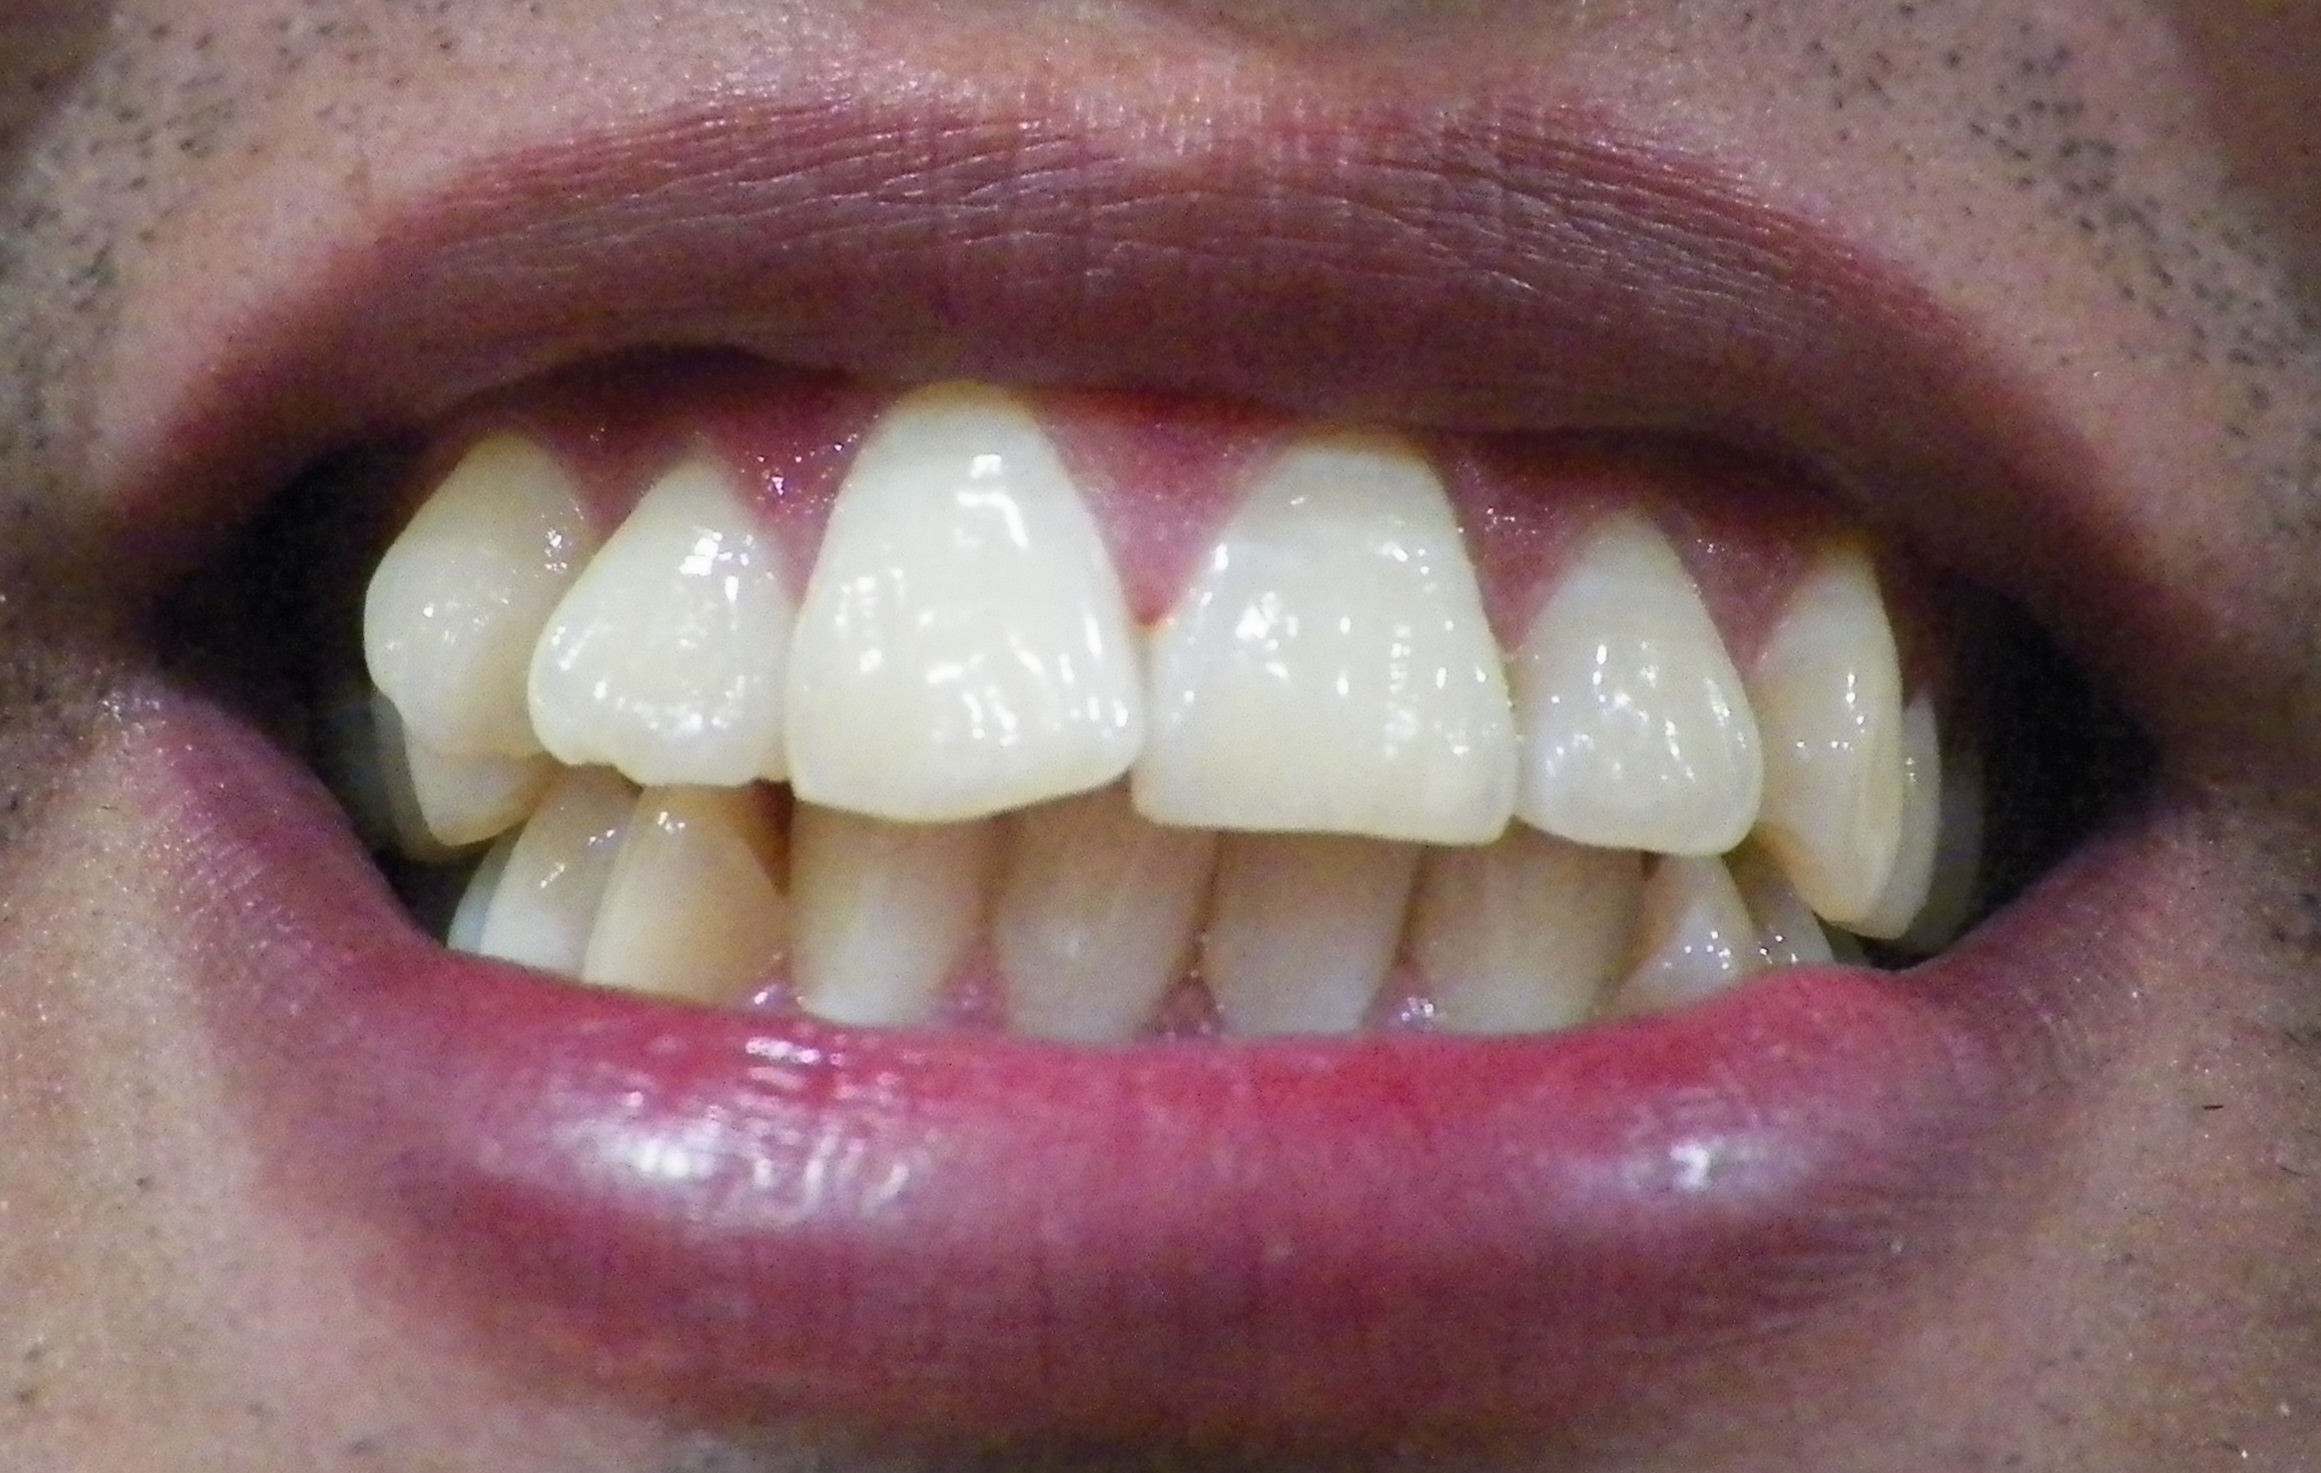boca: (354, 394, 2023, 1030)
